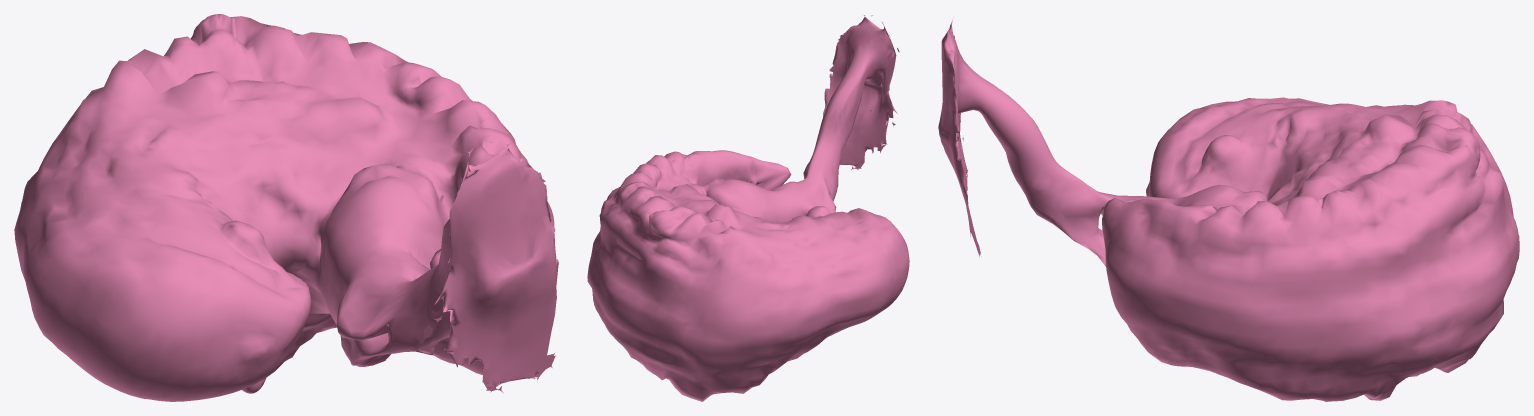
File: semana6.glb
The picture shows the model from 3 angles, left to right: view 1: azimuth 30°, elevation 25°; view 2: azimuth 150°, elevation 25°; view 3: azimuth 270°, elevation 25°; orthographic projection. The views are drawn at different scales.
Visible parts, largest first — view 1: Mesh1; view 2: Mesh1; view 3: Mesh1.
Boxes of the visible parts, x1,y1,x2,y2 form: Mesh1: (14,14,558,401); Mesh1: (587,15,909,401); Mesh1: (938,20,1519,401).
Size of the model in its own units: 1.51 by 1.31 by 1.99.
